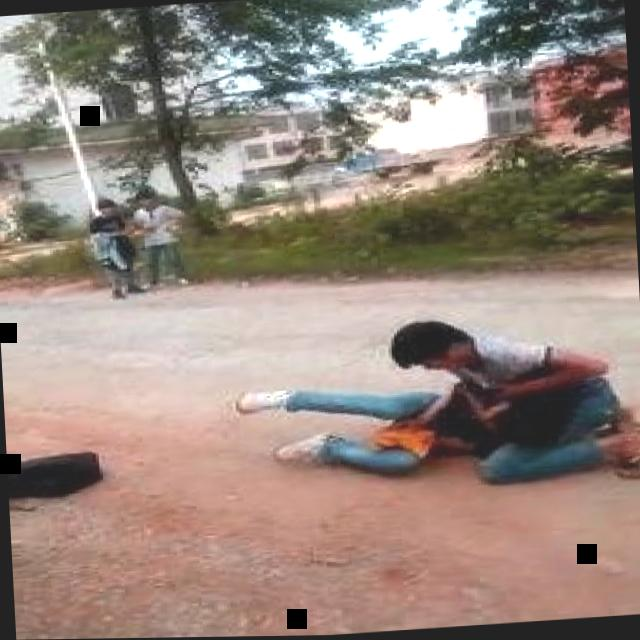Fall-Detected: (234, 354, 494, 494)
